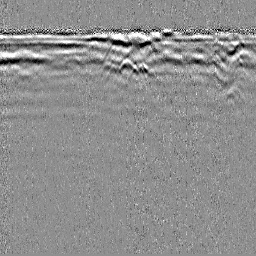cavity: (118, 56, 139, 75)
